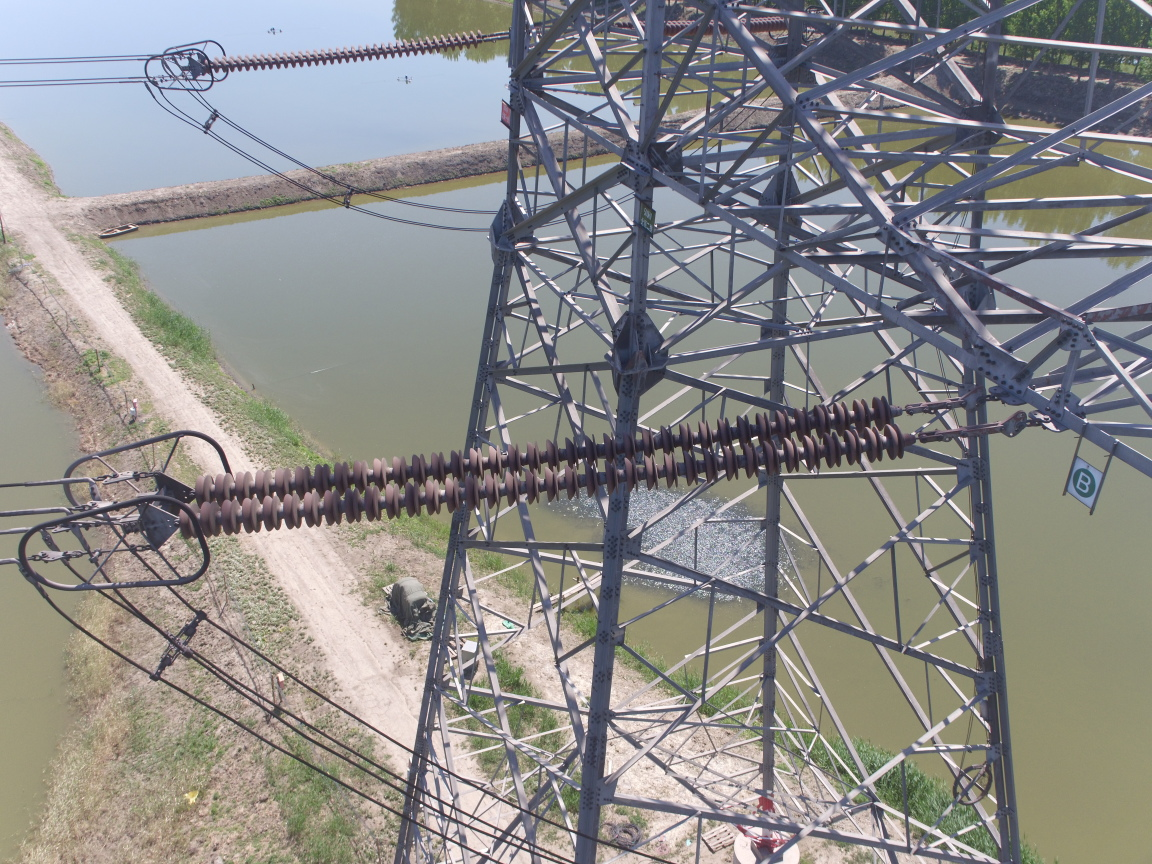insulator: (165, 393, 964, 545), (201, 22, 498, 76)
